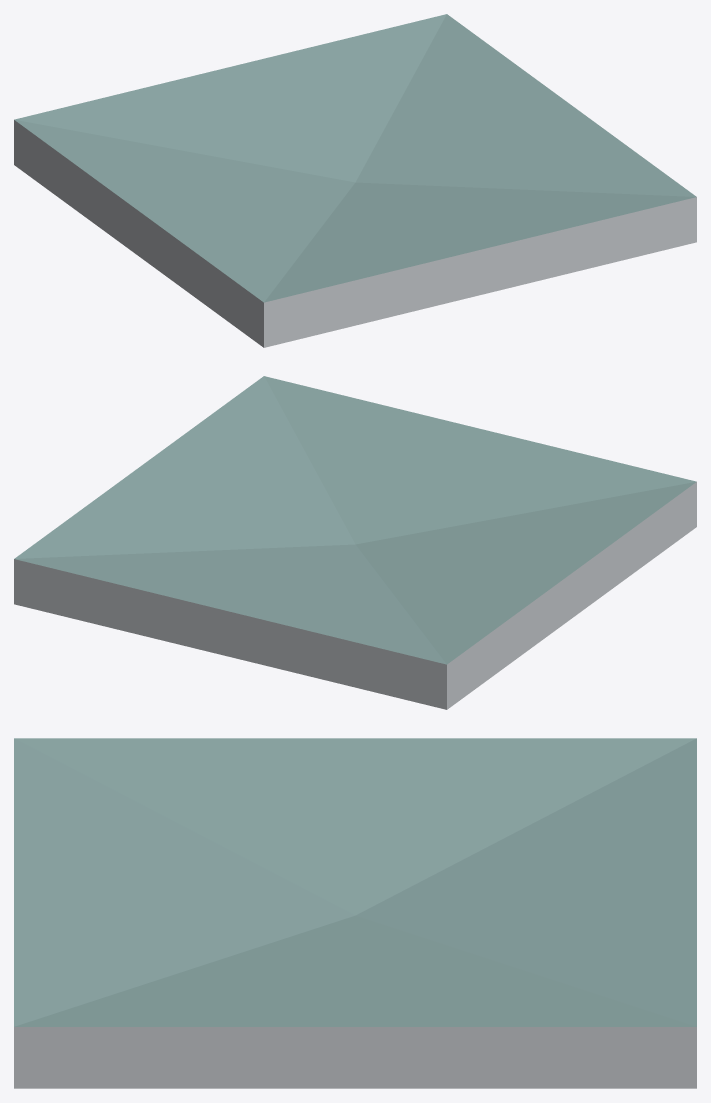
The model's file is naturePack_090.gltf.
The picture shows the model from 3 angles, top to bottom: view 1: azimuth 30°, elevation 25°; view 2: azimuth 150°, elevation 25°; view 3: azimuth 270°, elevation 25°; orthographic projection. The views are drawn at different scales.
Parts seen in each view (by area): view 1: Mesh1 Plate_Grass Model; view 2: Mesh1 Plate_Grass Model; view 3: Mesh1 Plate_Grass Model.
Part boxes in pixels (bbox=[...]): Mesh1 Plate_Grass Model: bbox=[14, 14, 696, 347]; Mesh1 Plate_Grass Model: bbox=[14, 376, 696, 709]; Mesh1 Plate_Grass Model: bbox=[14, 738, 696, 1088].
Size of the model in its own units: 3 by 0.3 by 3.
